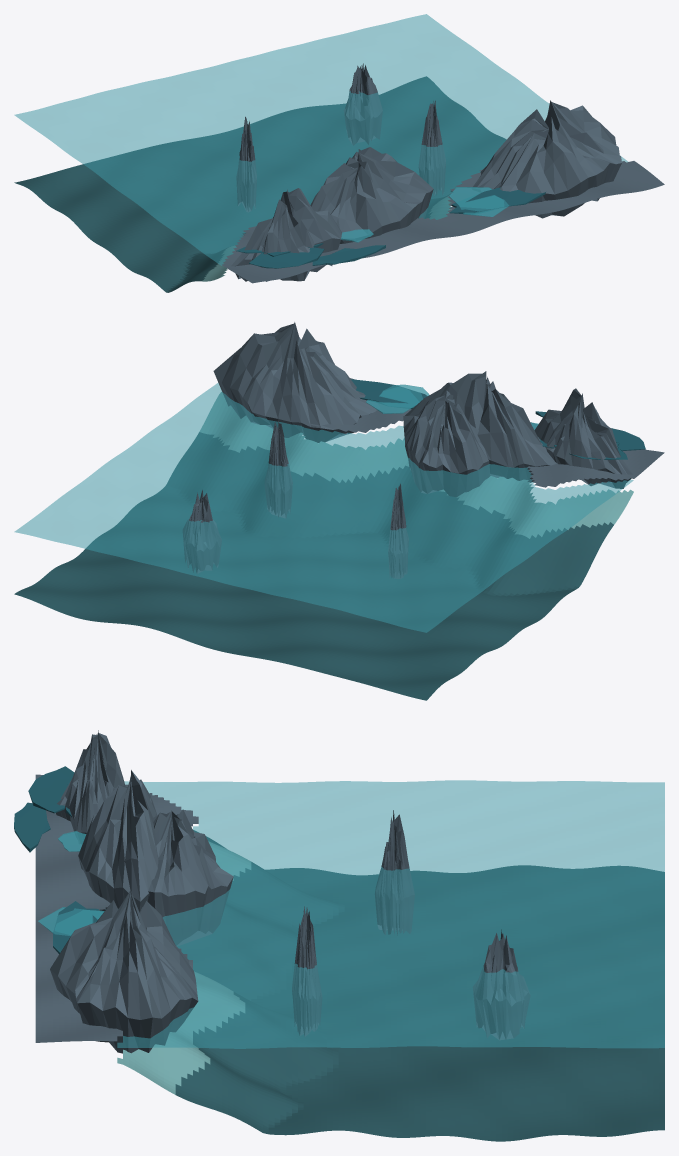
Rendered from water_tile_14.glb.
3 views of the same model, one above another, from view 1: azimuth 30°, elevation 25°; view 2: azimuth 150°, elevation 25°; view 3: azimuth 270°, elevation 25° (orthographic). The views are drawn at different scales.
Visible parts, largest first — view 1: glacial water surface 14, submerged mineral riverbed.014, angular fractured shoreline ledge.125, single continuous dark slate shoreline.014, angular fractured shoreline ledge.124, angular fractured shoreline ledge.127, underwater worn boulder.047, underwater worn boulder.046, erosion water finger above land.158, underwater worn boulder.048, isolated flooded rock depression.062, erosion water finger above land.159 (+2 smaller); view 2: submerged mineral riverbed.014, glacial water surface 14, visible shallow mineral shelves.014, angular fractured shoreline ledge.125, angular fractured shoreline ledge.126, angular fractured shoreline ledge.124, angular fractured shoreline ledge.127, single continuous dark slate shoreline.014, underwater worn boulder.047, underwater worn boulder.046, underwater worn boulder.048, erosion water finger above land.158 (+1 smaller); view 3: glacial water surface 14, submerged mineral riverbed.014, angular fractured shoreline ledge.125, single continuous dark slate shoreline.014, angular fractured shoreline ledge.126, angular fractured shoreline ledge.124, visible shallow mineral shelves.014, underwater worn boulder.047, angular fractured shoreline ledge.127, underwater worn boulder.048, underwater worn boulder.046, erosion water finger above land.159 (+3 smaller).
Boxes of the visible parts, x1=… form: glacial water surface 14: x1=14, y1=14, x2=628, y2=265; submerged mineral riverbed.014: x1=14, y1=76, x2=506, y2=292; angular fractured shoreline ledge.125: x1=472, y1=100, x2=621, y2=218; single continuous dark slate shoreline.014: x1=222, y1=161, x2=664, y2=283; angular fractured shoreline ledge.124: x1=310, y1=147, x2=433, y2=243; angular fractured shoreline ledge.127: x1=231, y1=188, x2=341, y2=281; underwater worn boulder.047: x1=343, y1=63, x2=382, y2=145; underwater worn boulder.046: x1=418, y1=100, x2=445, y2=195; erosion water finger above land.158: x1=449, y1=187, x2=545, y2=214; underwater worn boulder.048: x1=236, y1=116, x2=256, y2=212; isolated flooded rock depression.062: x1=449, y1=187, x2=508, y2=216; erosion water finger above land.159: x1=249, y1=247, x2=324, y2=268; submerged mineral riverbed.014: x1=14, y1=432, x2=613, y2=700; glacial water surface 14: x1=14, y1=383, x2=633, y2=632; visible shallow mineral shelves.014: x1=199, y1=392, x2=633, y2=538; angular fractured shoreline ledge.125: x1=213, y1=322, x2=379, y2=442; angular fractured shoreline ledge.126: x1=403, y1=391, x2=490, y2=497; angular fractured shoreline ledge.124: x1=405, y1=371, x2=556, y2=482; angular fractured shoreline ledge.127: x1=534, y1=388, x2=632, y2=488; single continuous dark slate shoreline.014: x1=306, y1=378, x2=664, y2=487; underwater worn boulder.047: x1=182, y1=490, x2=221, y2=573; underwater worn boulder.046: x1=264, y1=417, x2=292, y2=518; underwater worn boulder.048: x1=388, y1=483, x2=408, y2=578; erosion water finger above land.158: x1=351, y1=379, x2=427, y2=409; glacial water surface 14: x1=105, y1=780, x2=664, y2=1048; submerged mineral riverbed.014: x1=175, y1=830, x2=664, y2=1141; angular fractured shoreline ledge.125: x1=50, y1=890, x2=198, y2=1053; single continuous dark slate shoreline.014: x1=35, y1=774, x2=198, y2=1042; angular fractured shoreline ledge.126: x1=147, y1=809, x2=233, y2=946; angular fractured shoreline ledge.124: x1=78, y1=770, x2=158, y2=912; visible shallow mineral shelves.014: x1=117, y1=841, x2=251, y2=1094; underwater worn boulder.047: x1=473, y1=929, x2=530, y2=1040; angular fractured shoreline ledge.127: x1=56, y1=730, x2=125, y2=843; underwater worn boulder.048: x1=375, y1=810, x2=414, y2=935; underwater worn boulder.046: x1=292, y1=906, x2=322, y2=1036; erosion water finger above land.159: x1=28, y1=766, x2=74, y2=813.
Bounding box in the file's own units: 1 × 0.3537 × 1.03.
